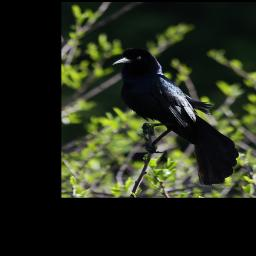Crow: (111, 46, 238, 184)
